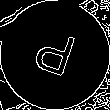P_S: (29, 25, 81, 85)
